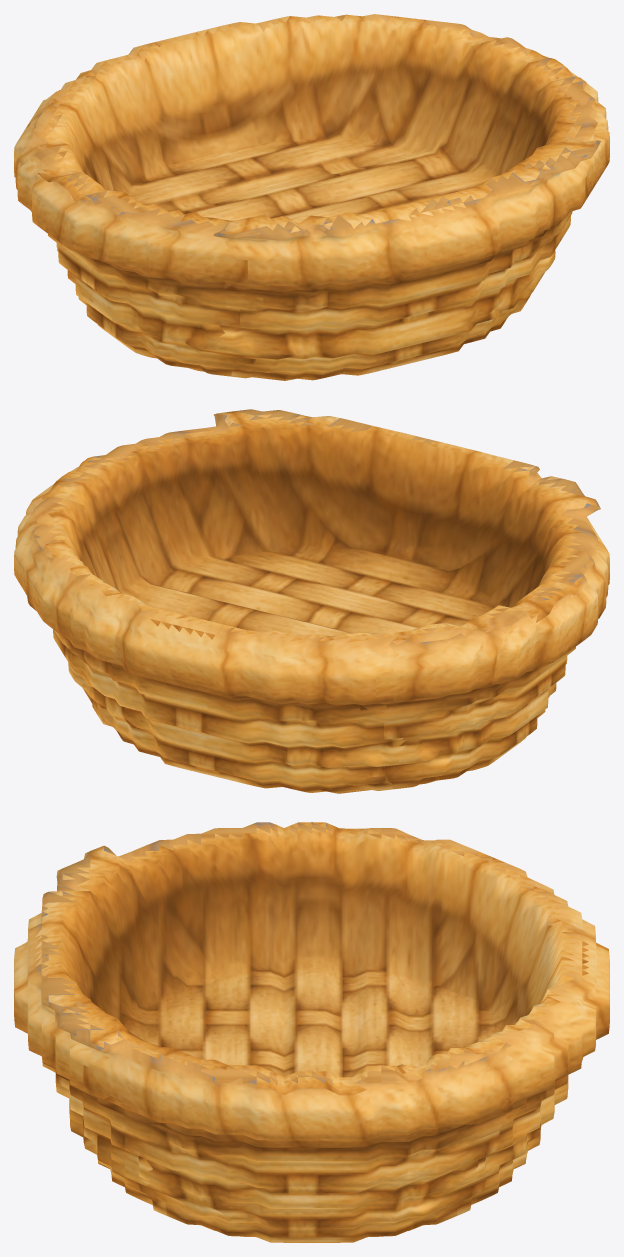
File: basket.glb
The picture shows the model from 3 angles, top to bottom: view 1: azimuth 30°, elevation 25°; view 2: azimuth 150°, elevation 25°; view 3: azimuth 270°, elevation 25°; orthographic projection. The views are drawn at different scales.
Size of the model in its own units: 2.87 by 1 by 2.6.
Materials: 1 (1 with a texture image).
